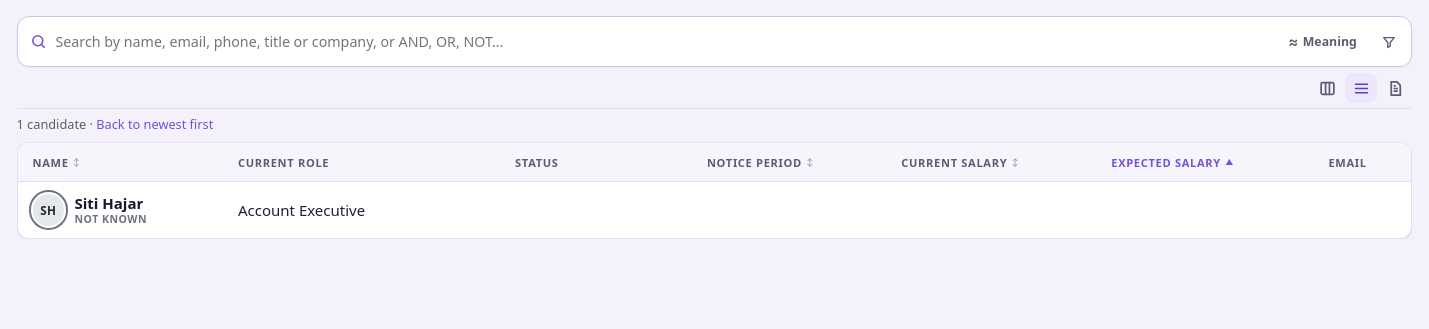
Test: searching candidates by meaning › ranks best match first: no sort, no sorting headers; the kept order is back with the words
The image size is (1429, 329).
Expected: the link "Siti Hajar" is shown, left=74, top=193, right=143, bottom=213
Click the button "≈ Meaning": click(1322, 42) left=1278, top=27, right=1366, bottom=56
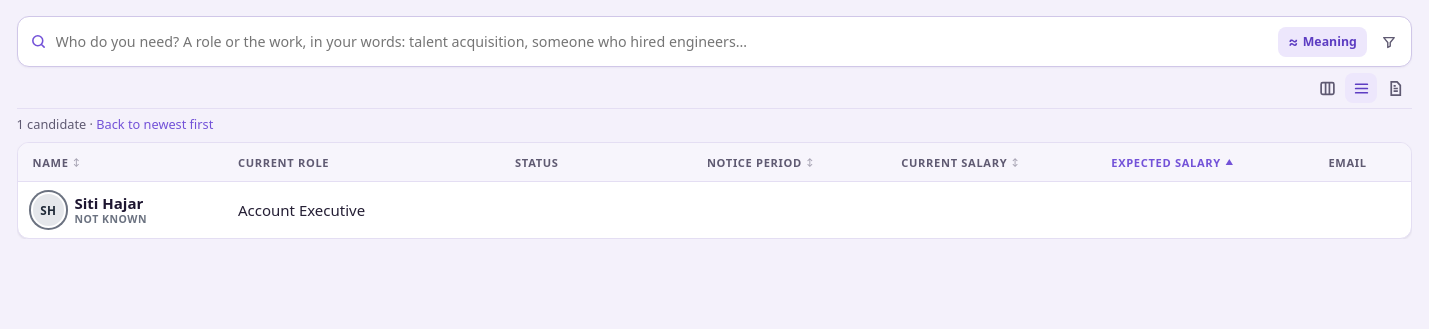
Replace the text in the field named "Search candidates by meaning" with "accounts executive": (663, 42) left=52, top=22, right=1273, bottom=62
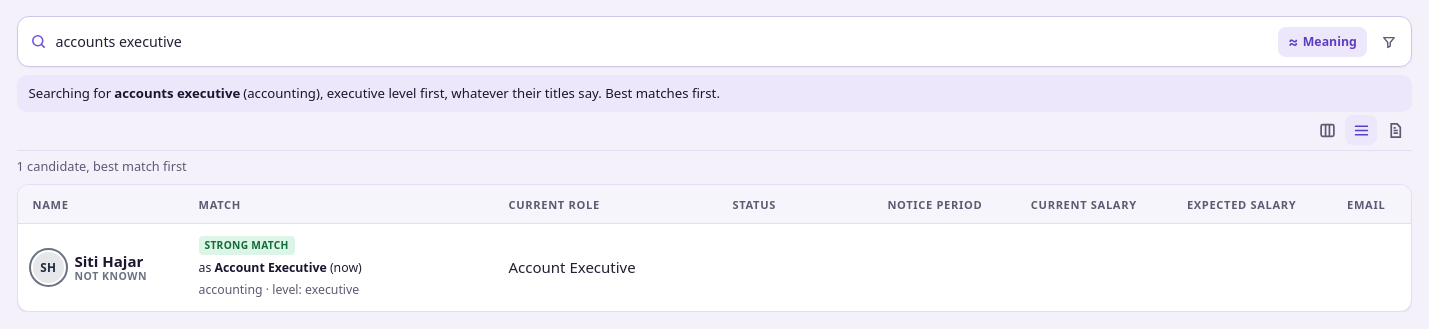
Result: the text "1 candidate, best match first" is shown at left=16, top=157, right=187, bottom=177
Result: the button "Back to newest first" is gone
Click the button "≈ Meaning": click(1322, 42) left=1278, top=27, right=1366, bottom=56
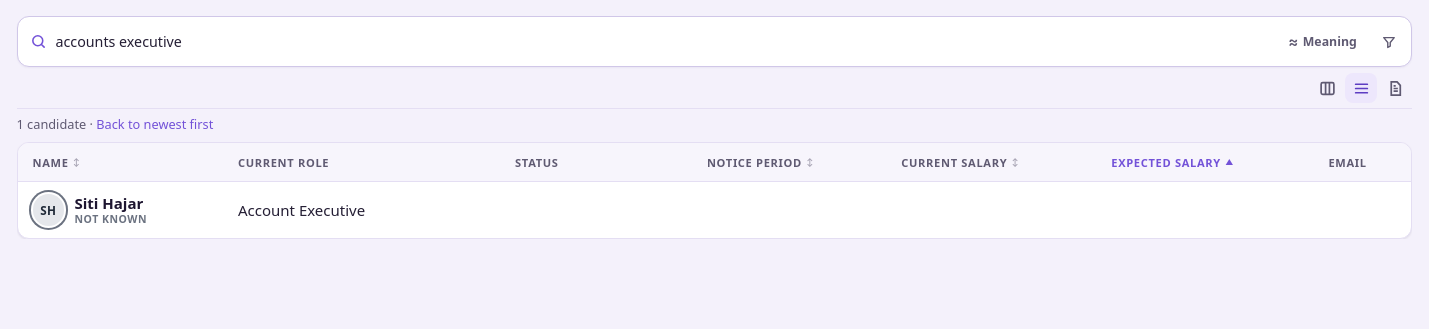
Result: the button "Back to newest first" is shown at left=96, top=115, right=213, bottom=135
